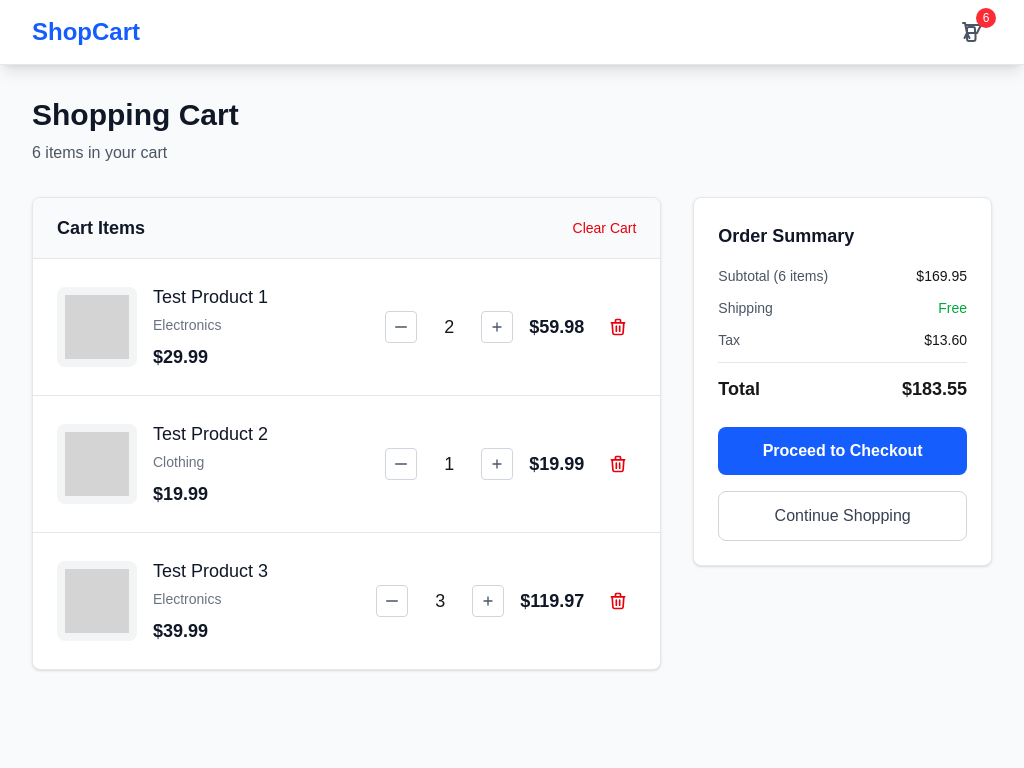
Test case: Cart Page › Clear Cart Functionality › shows loading state when clearing cart
This screenshot has width=1024, height=768.
Click the button "Clear Cart" at (604, 228), box 572,218 -> 636,238
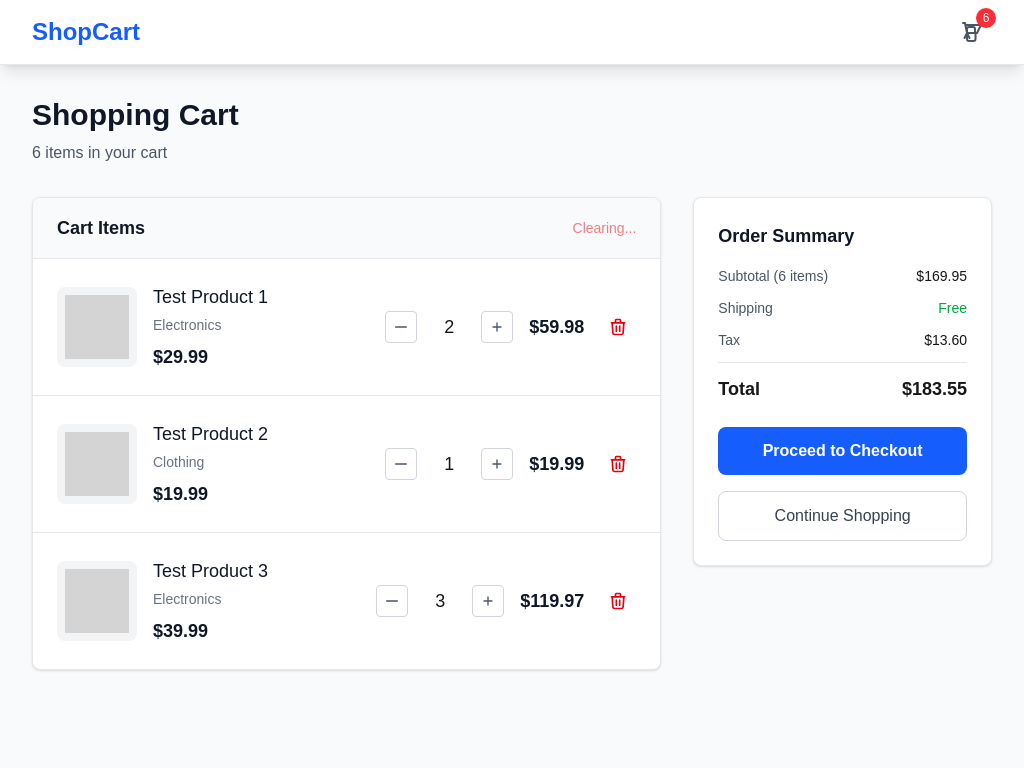
Expected: the button "Clearing..." is disabled, 572,218 -> 636,238
